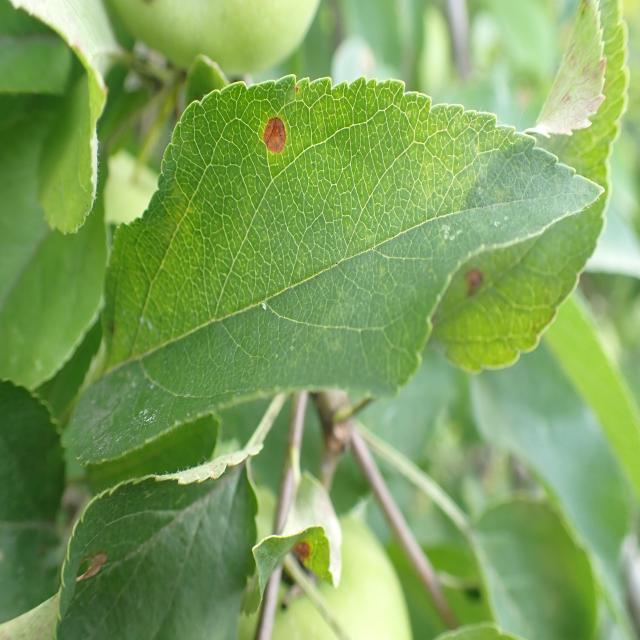Black Rot: (450, 254, 498, 317), (273, 525, 320, 583), (257, 94, 290, 172)
scab: (522, 0, 618, 182)
